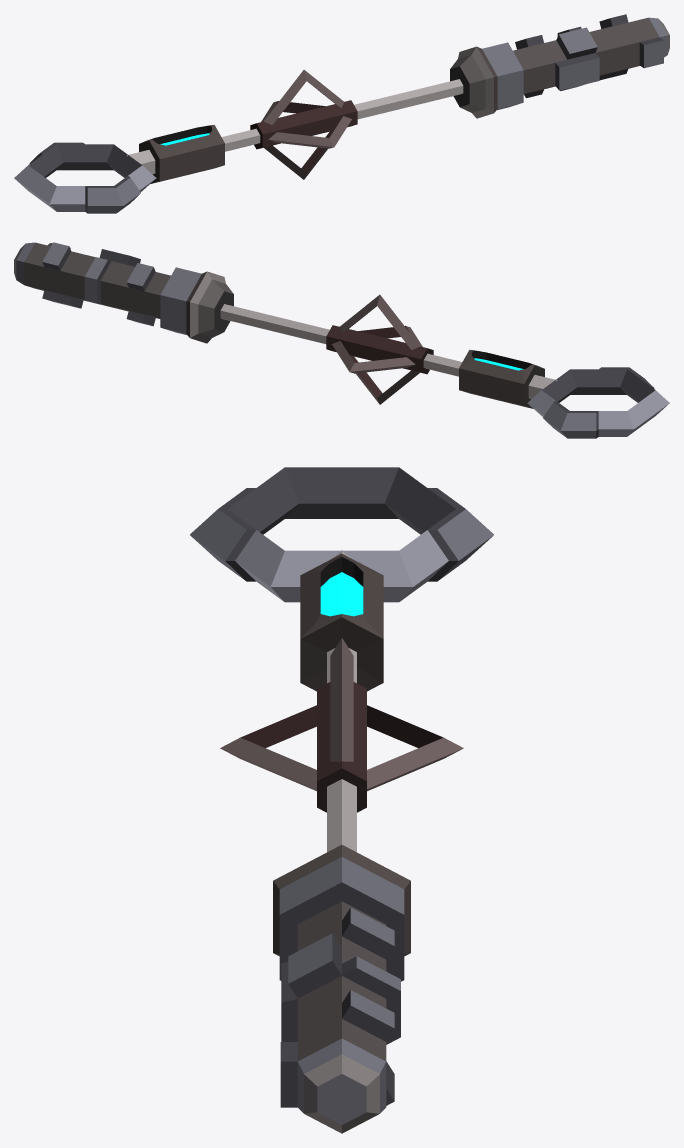
Rendered from Iron_Key_Fantasy.glb.
3 views of the same model, one above another, from view 1: azimuth 30°, elevation 25°; view 2: azimuth 150°, elevation 25°; view 3: azimuth 270°, elevation 25° (orthographic). The views are drawn at different scales.
Visible parts, largest first — view 1: FantasyKey_Iron; view 2: FantasyKey_Iron; view 3: FantasyKey_Iron.
Boxes of the visible parts, x1,y1,x2,y2 form: FantasyKey_Iron: (14,14,669,213); FantasyKey_Iron: (14,242,669,438); FantasyKey_Iron: (190,467,493,1133).
Size of what is drawn, in the model's own units: 0.6116 by 0.1024 by 0.1278.
Materials: 1 (1 with a texture image).
